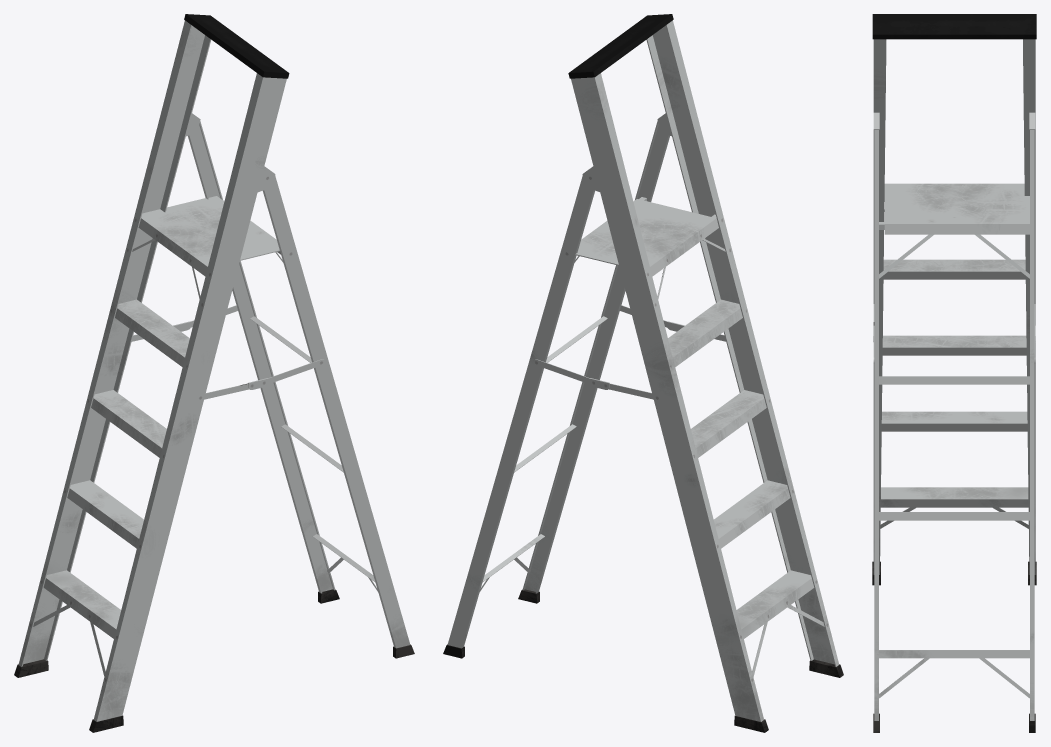
Rendered from Tangga.fbx.
The picture shows the model from 3 angles, left to right: view 1: azimuth 30°, elevation 25°; view 2: azimuth 150°, elevation 25°; view 3: azimuth 270°, elevation 25°; orthographic projection. The views are drawn at different scales.
Parts seen in each view (by area): view 1: StepLadder; view 2: StepLadder; view 3: StepLadder.
Part boxes in pixels (<box>): StepLadder: <box>14,14,414,732</box>; StepLadder: <box>443,14,843,732</box>; StepLadder: <box>872,14,1036,732</box>.
Bounding box in the file's own units: 471 × 865 × 200.
Materials: 1 (1 with a texture image).
